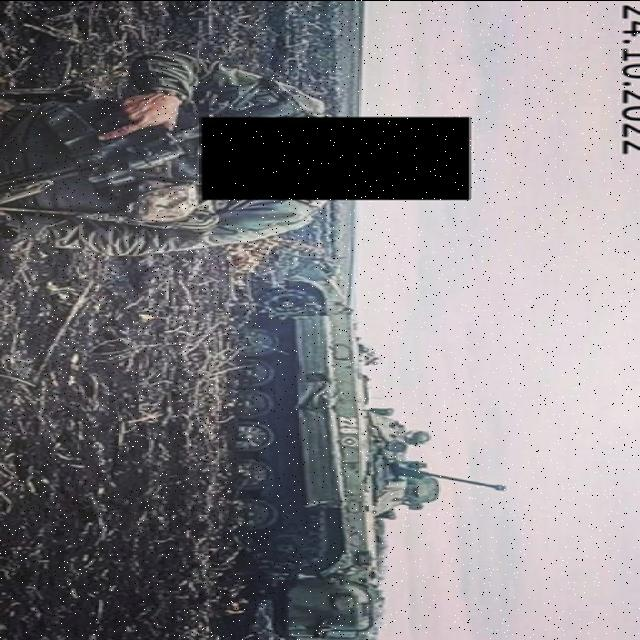APC-IFV: (222, 242, 524, 630)
